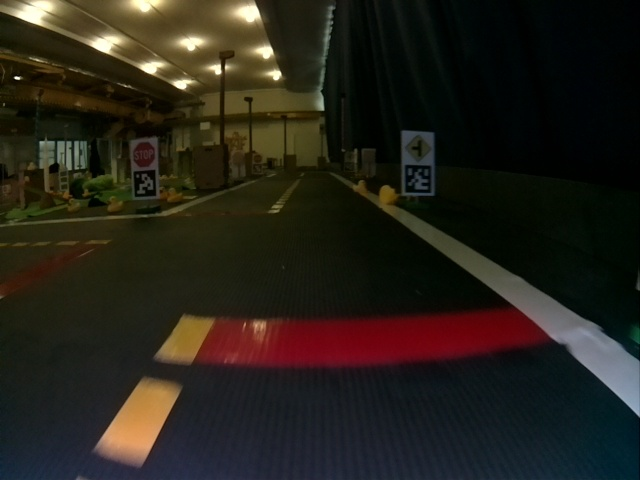Duckie: (379, 185, 398, 203), (107, 197, 124, 212), (353, 180, 365, 193)
Intersection sign: (404, 133, 433, 162)
QR code: (403, 163, 433, 193), (132, 169, 157, 198)
Stop sign: (132, 140, 157, 168)
